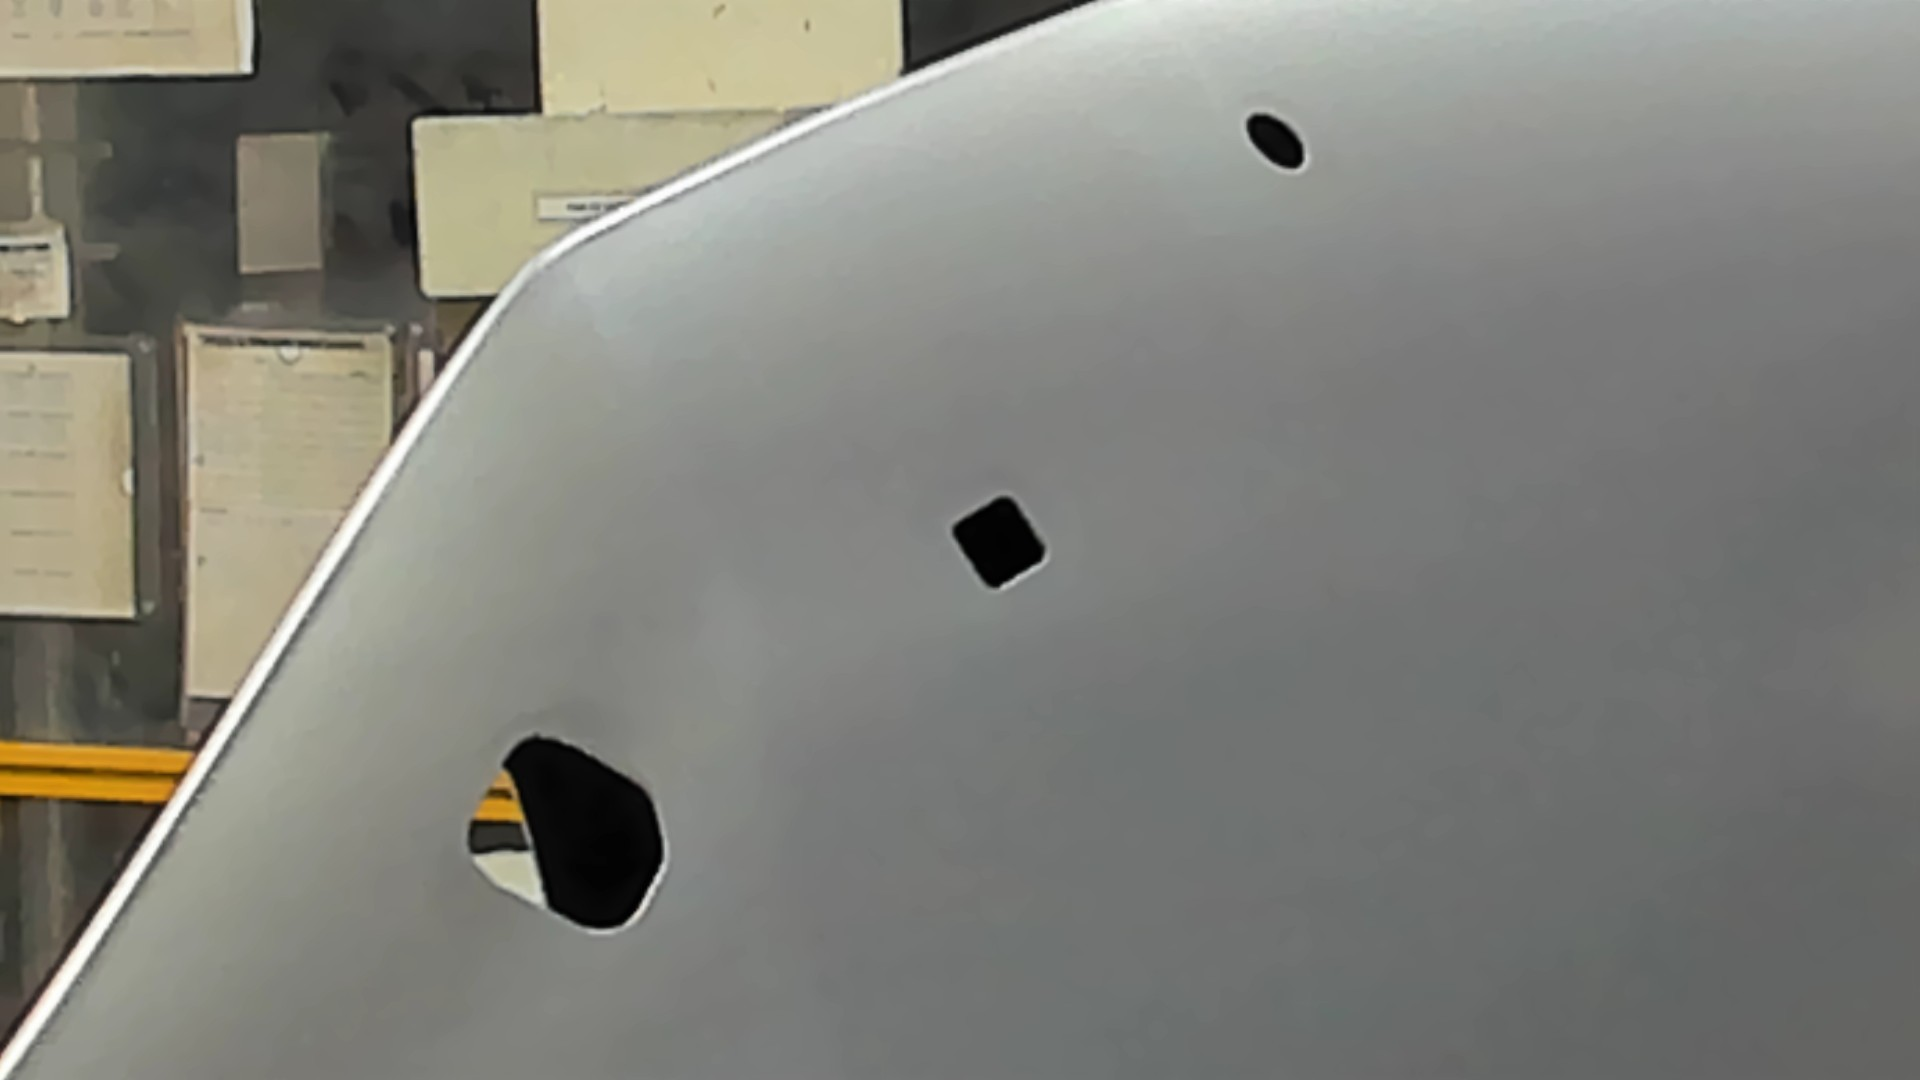chico: (1242, 105, 1309, 173)
grande: (462, 729, 675, 938)
mediano: (949, 491, 1052, 592)
